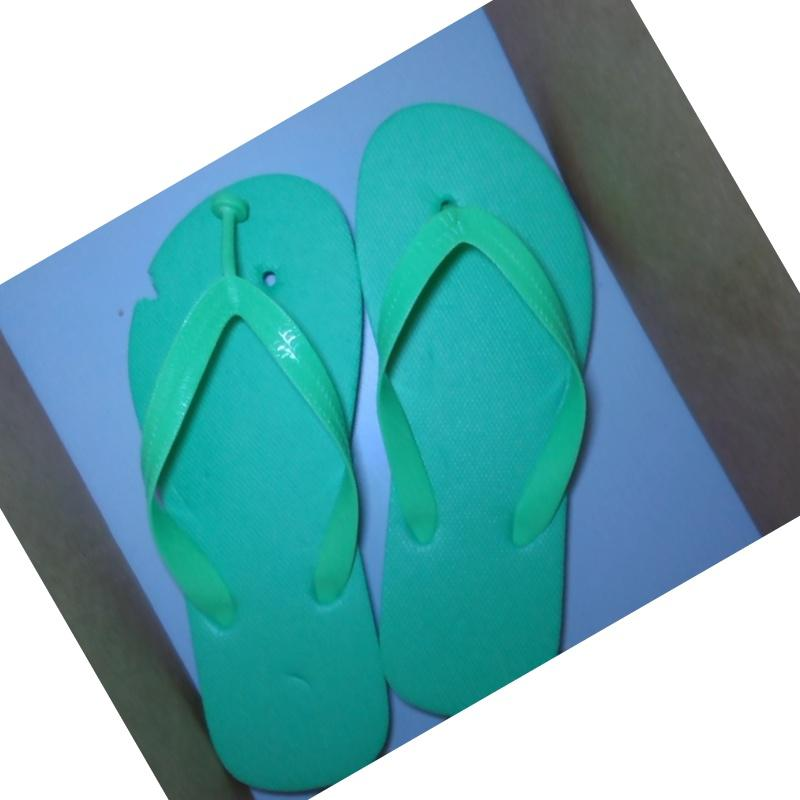chipped: (130, 256, 172, 312)
detached: (204, 184, 259, 251)
